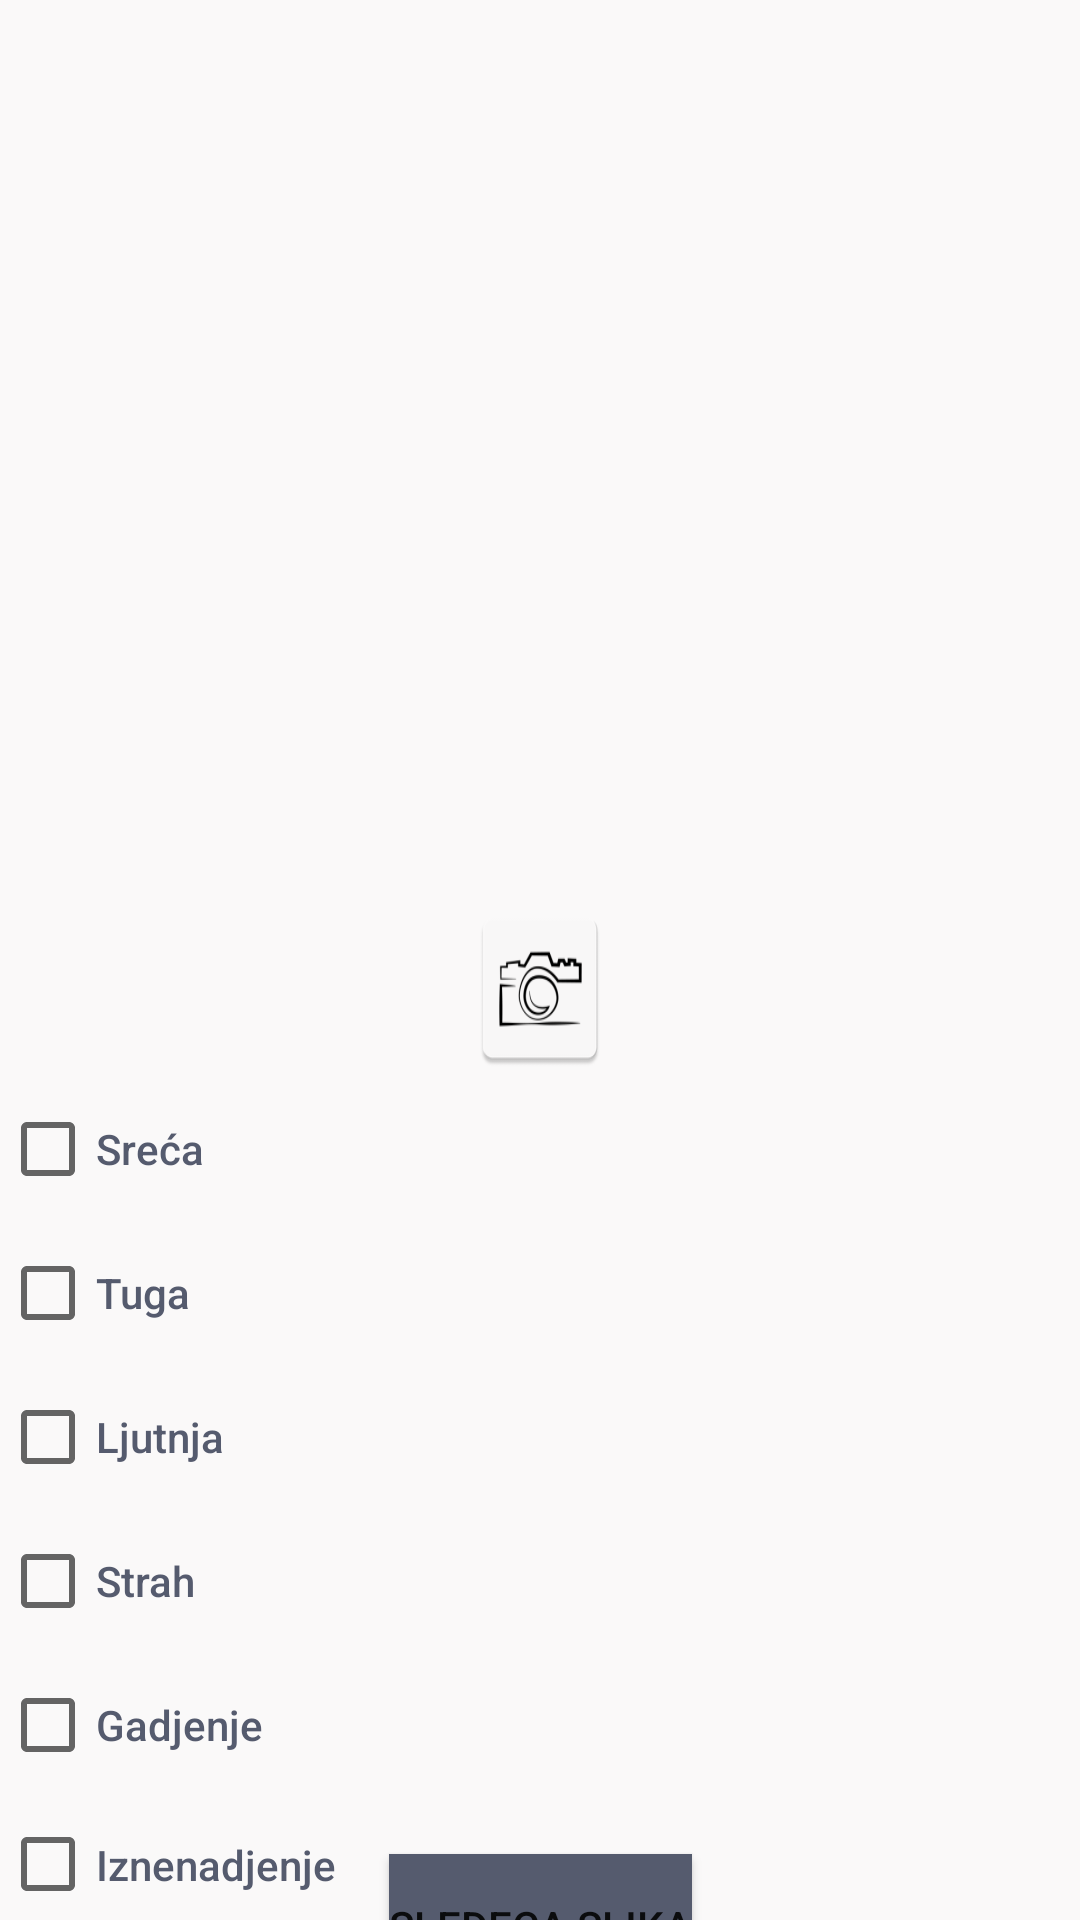

Icons on this 1080px x 1920px Android screen, each with its box as (x1, y1, x2, y2):
camera: (483, 926, 598, 1063)
